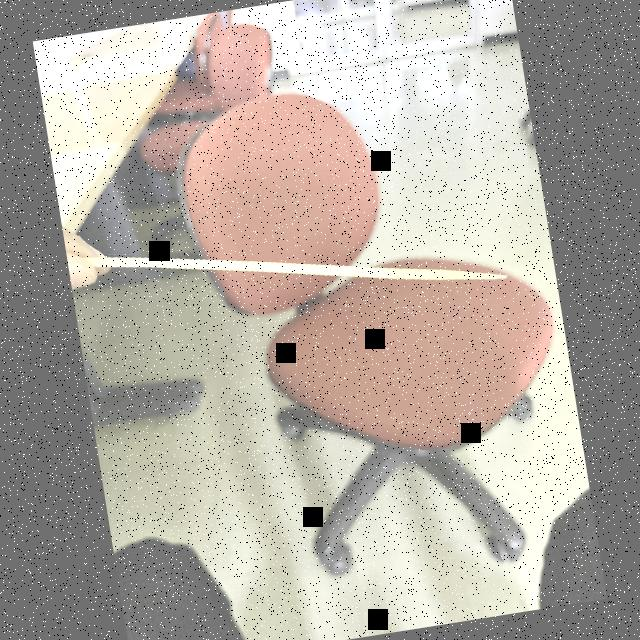stick: (75, 185, 517, 355)
